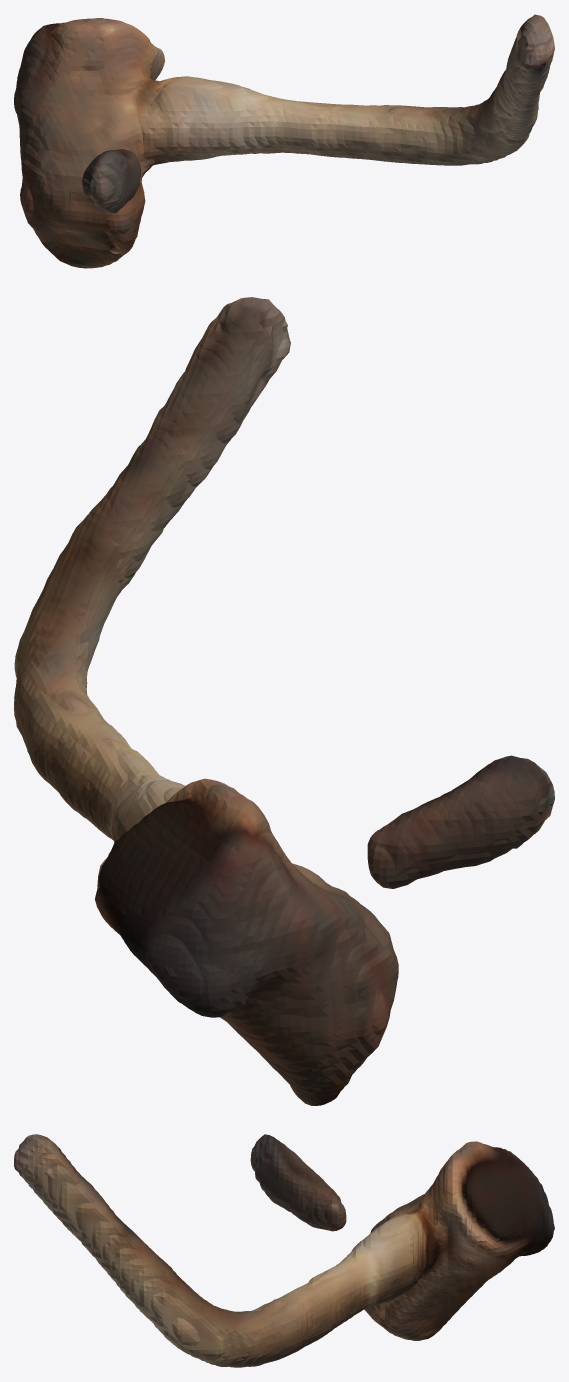
3 renders of one model, top to bottom at view 1: azimuth 30°, elevation 25°; view 2: azimuth 150°, elevation 25°; view 3: azimuth 270°, elevation 25°, orthographic. The views are drawn at different scales.
Size of the model in its own units: 0.6023 by 0.4921 by 0.7656.
